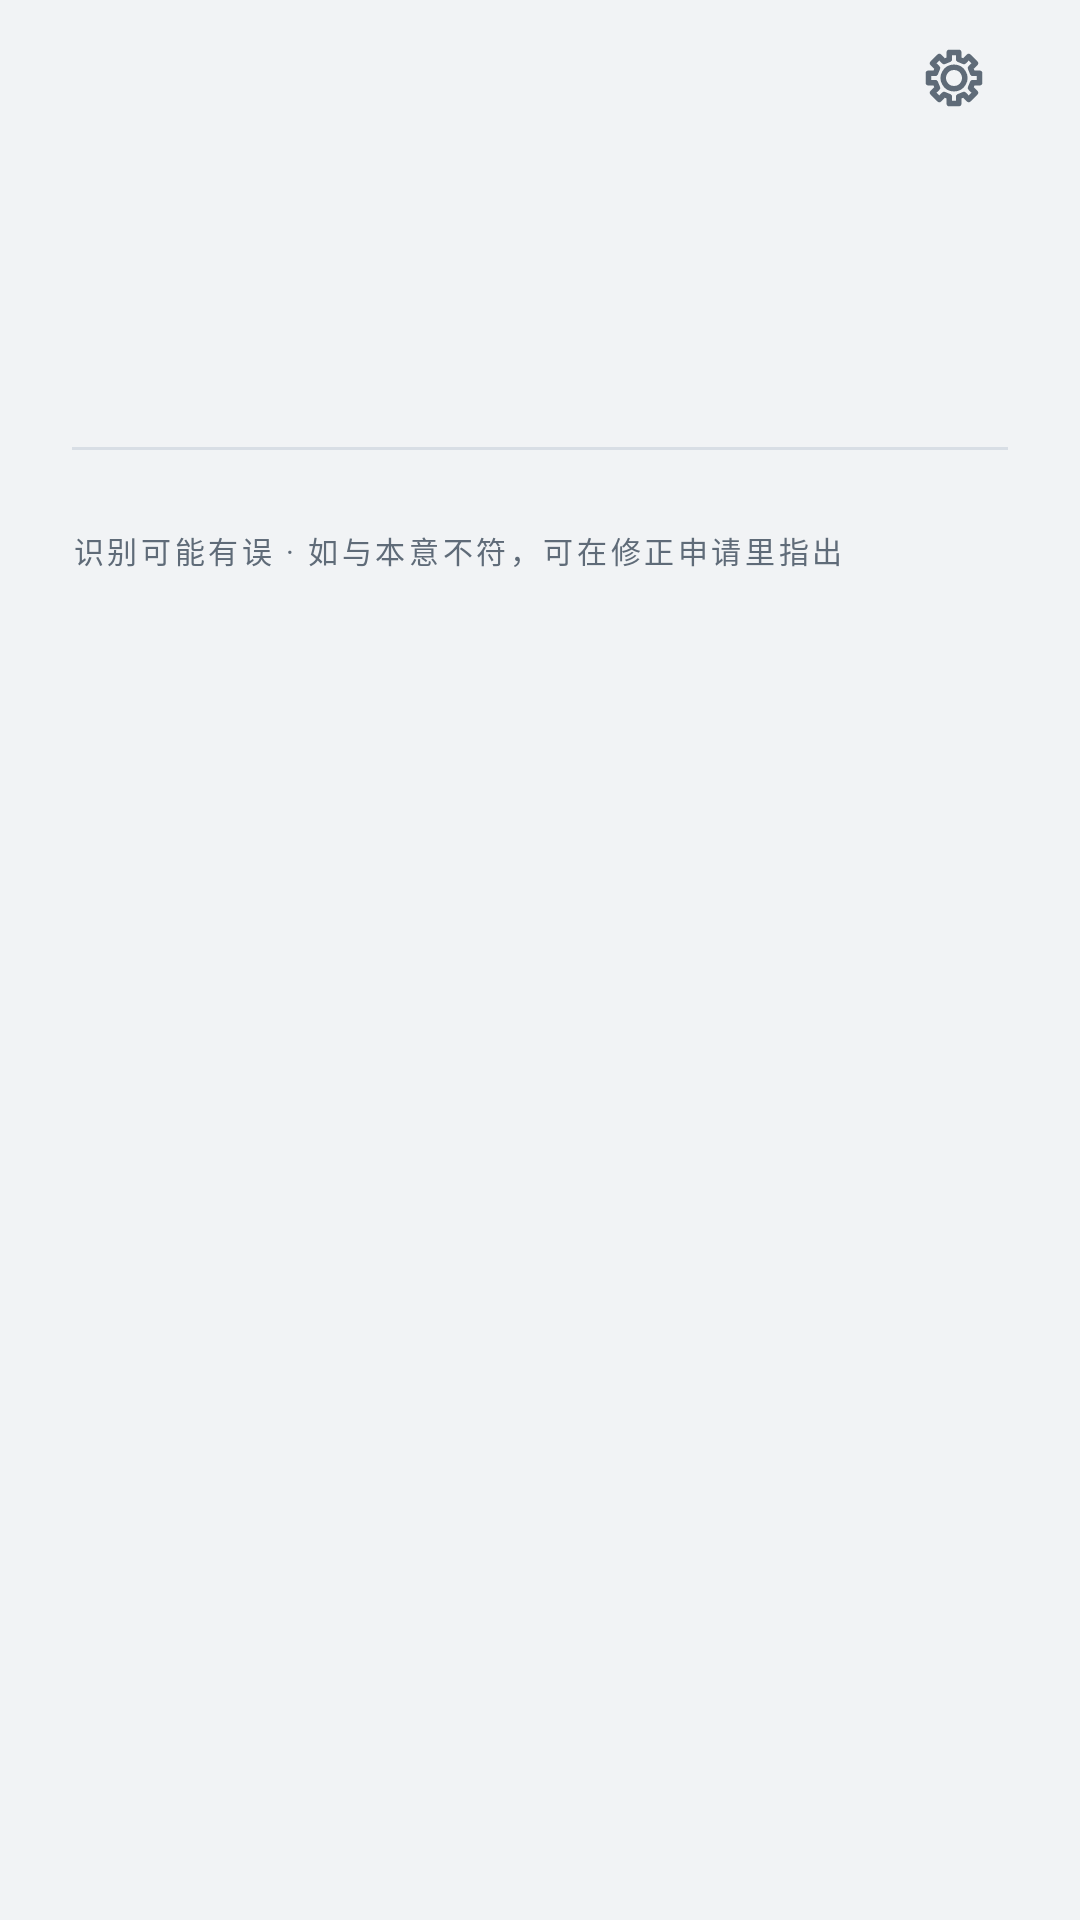

Where icons sit on this 1080px x 1920px app screen, as [left=x1, top=y1, right=x2, bottom=y2]:
设置: [left=925, top=49, right=983, bottom=107]
